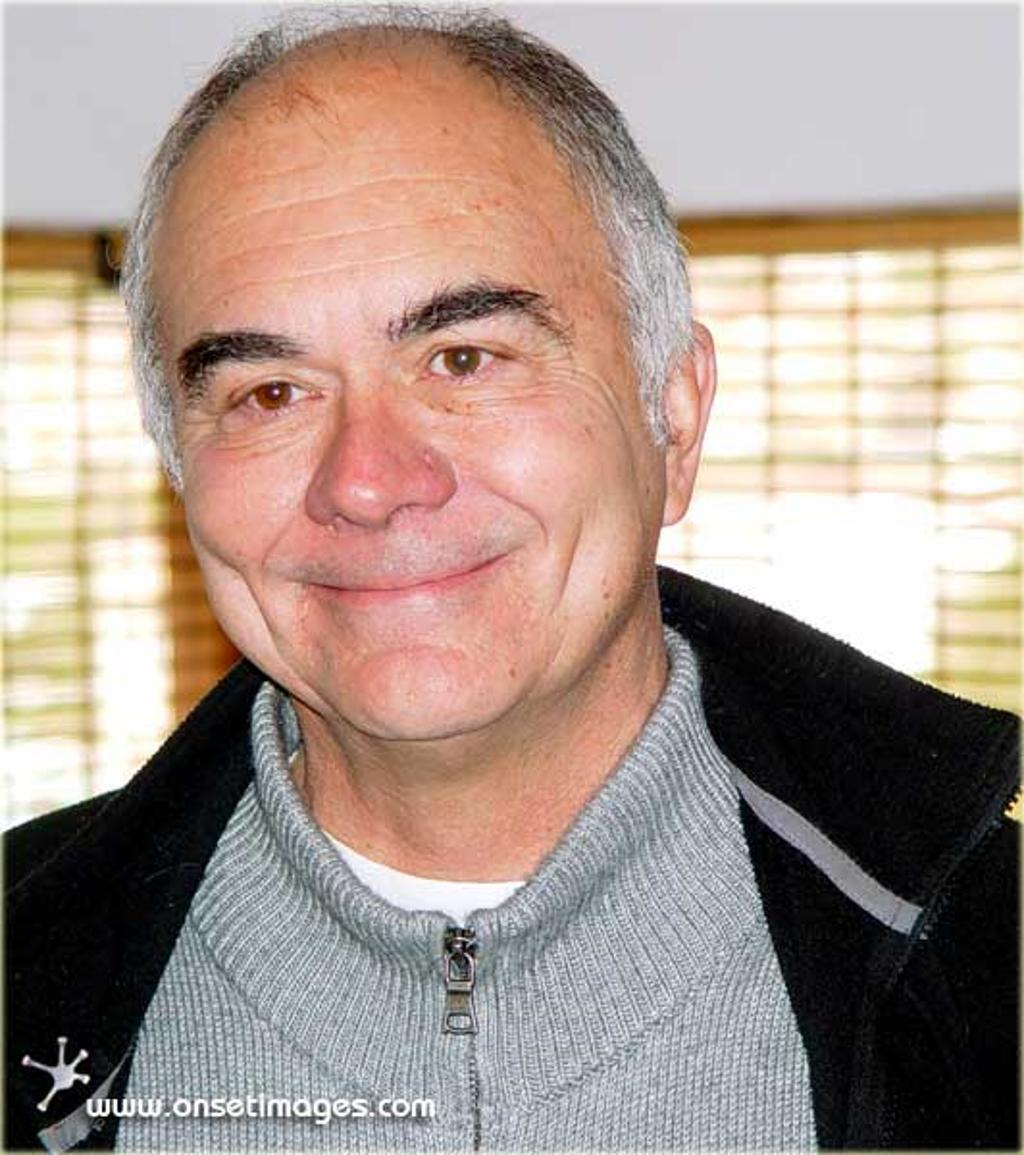face: (150, 96, 667, 730)
